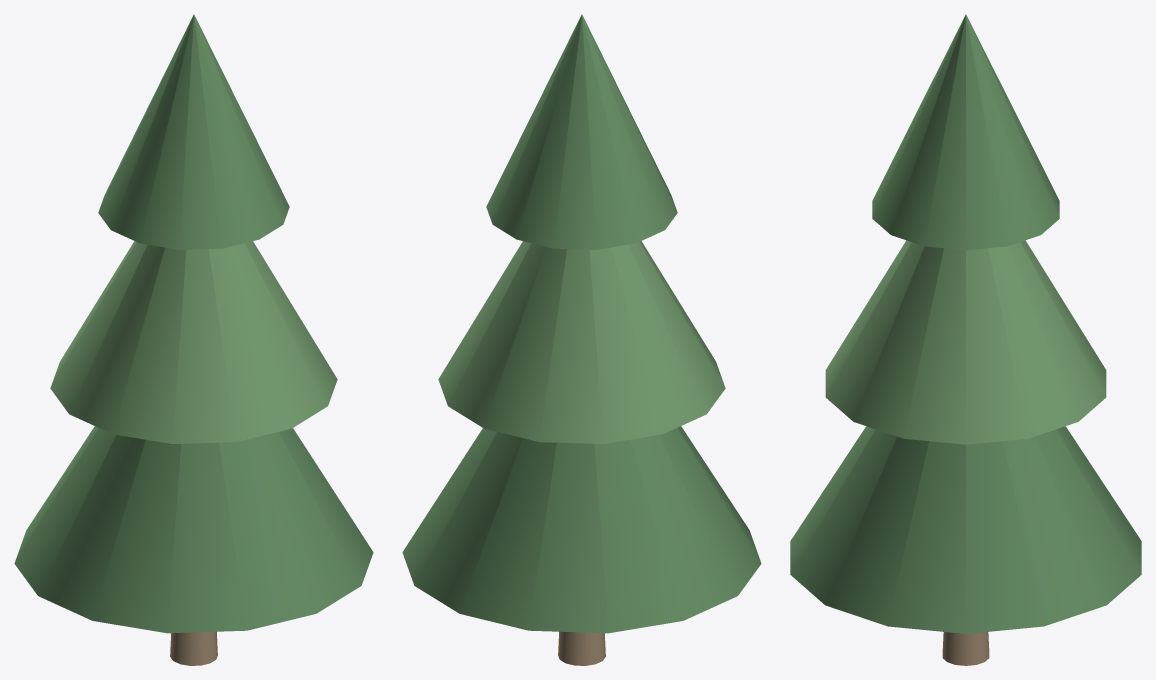
Rendered from TreeConifer.glb.
The picture shows the model from 3 angles, left to right: view 1: azimuth 30°, elevation 25°; view 2: azimuth 150°, elevation 25°; view 3: azimuth 270°, elevation 25°; orthographic projection.
Parts seen in each view (by area): view 1: model; view 2: model; view 3: model.
Part boxes in pixels (x1,y1,x2,y2): model: [14, 14, 373, 665]; model: [402, 14, 761, 665]; model: [790, 14, 1141, 665].
Bounding box in the file's own units: 3 × 5.9 × 2.92.
